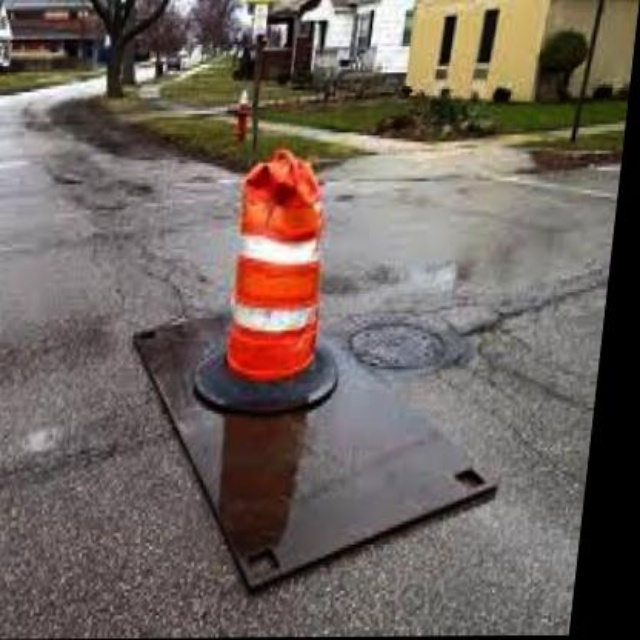obstacle: (213, 153, 347, 388)
